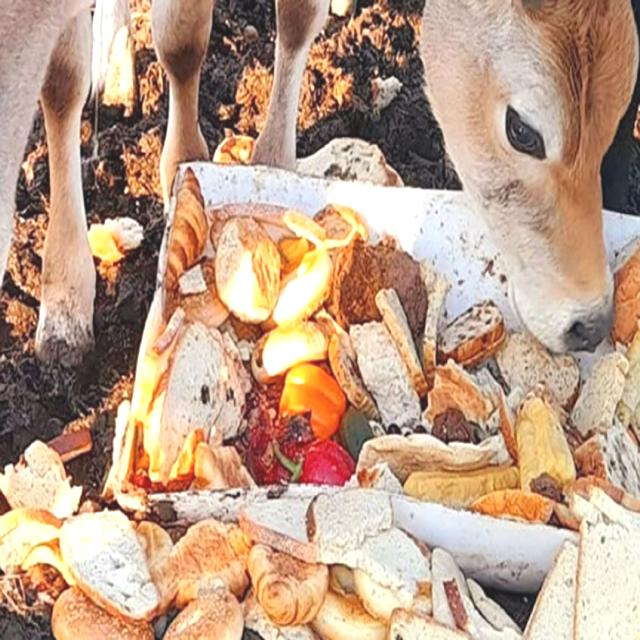wet: (65, 508, 156, 618), (571, 509, 640, 638), (216, 218, 281, 322), (247, 542, 328, 625), (163, 534, 248, 602), (0, 507, 74, 582), (269, 245, 333, 331), (139, 307, 185, 418), (298, 138, 404, 184), (436, 300, 506, 368), (404, 463, 517, 505), (1, 447, 71, 513), (260, 314, 332, 378), (102, 21, 139, 113), (172, 172, 205, 274), (465, 578, 526, 633), (611, 238, 640, 346), (86, 217, 144, 265), (220, 328, 251, 399), (213, 134, 255, 165)
